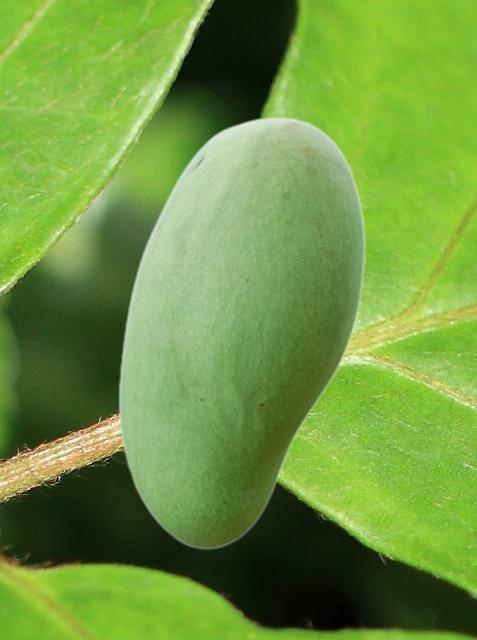green_mango: (117, 116, 364, 549)
